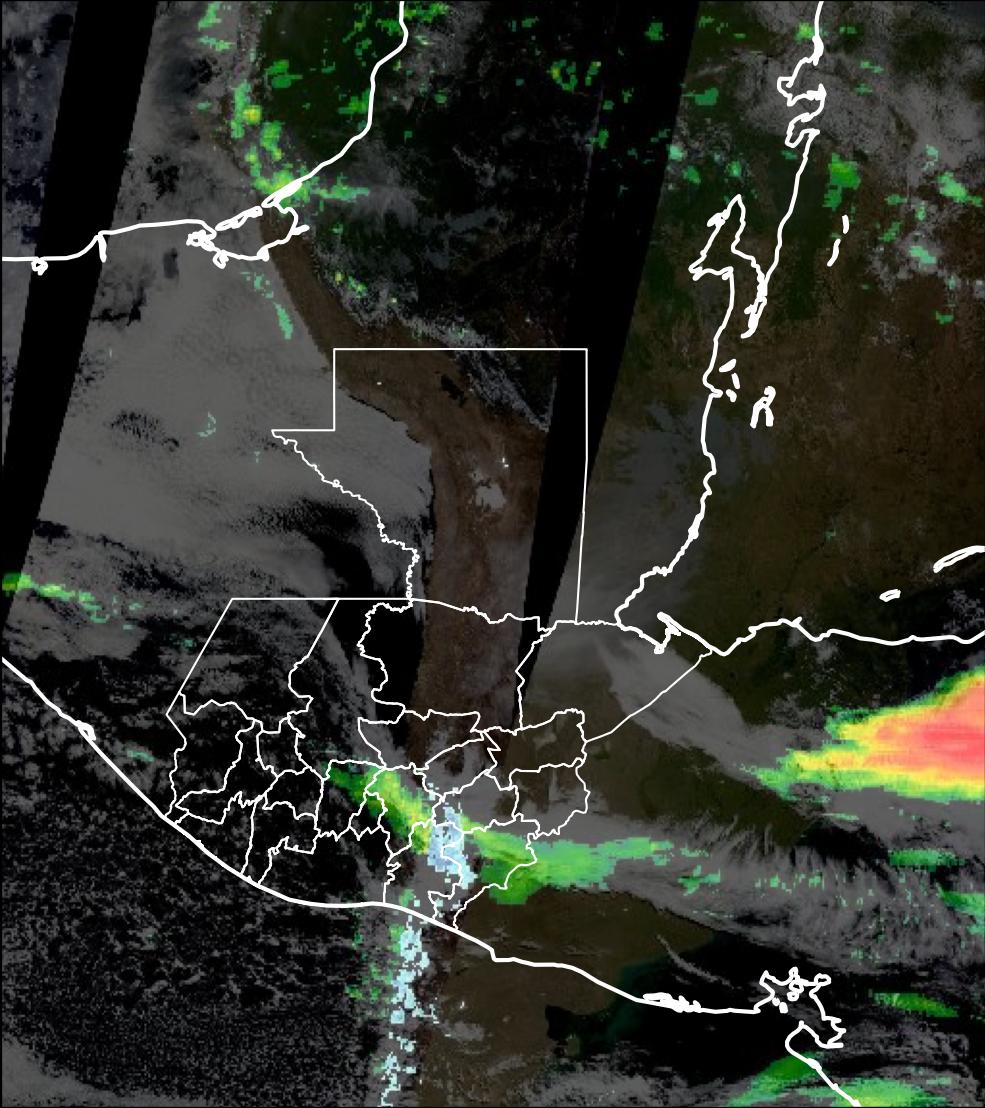precipitacion: (809, 668, 985, 802)
